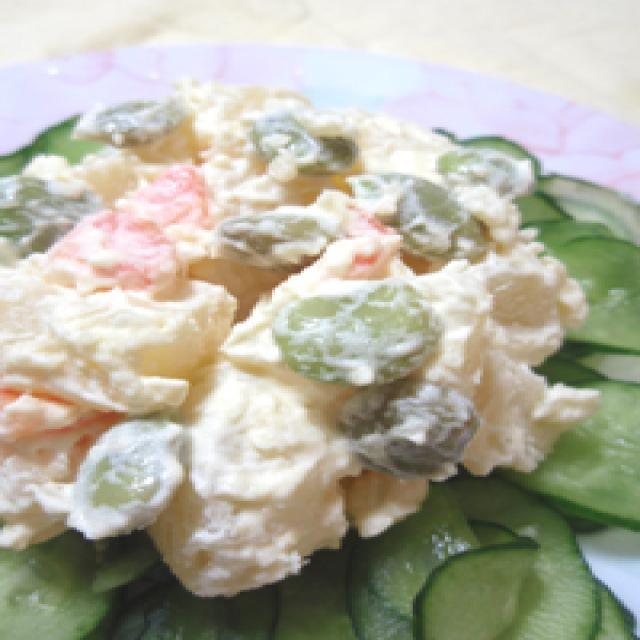蔬菜料理: (0, 50, 602, 614)
